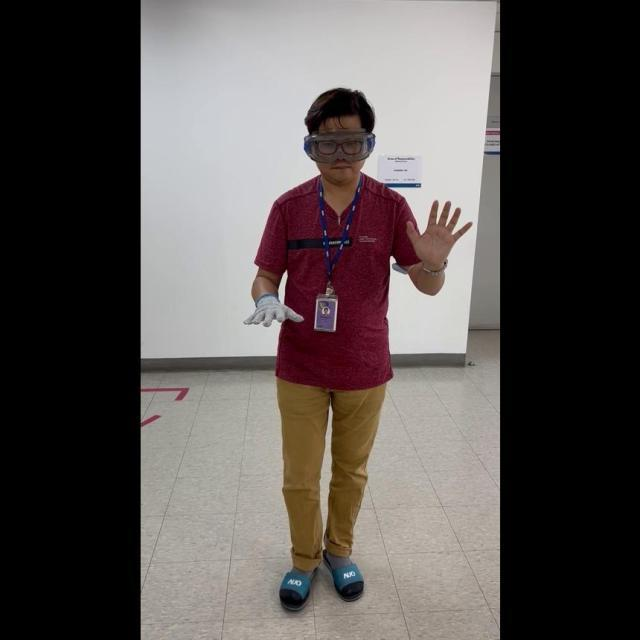bare_hand: (402, 194, 471, 269)
gloved_hand: (242, 288, 302, 331)
